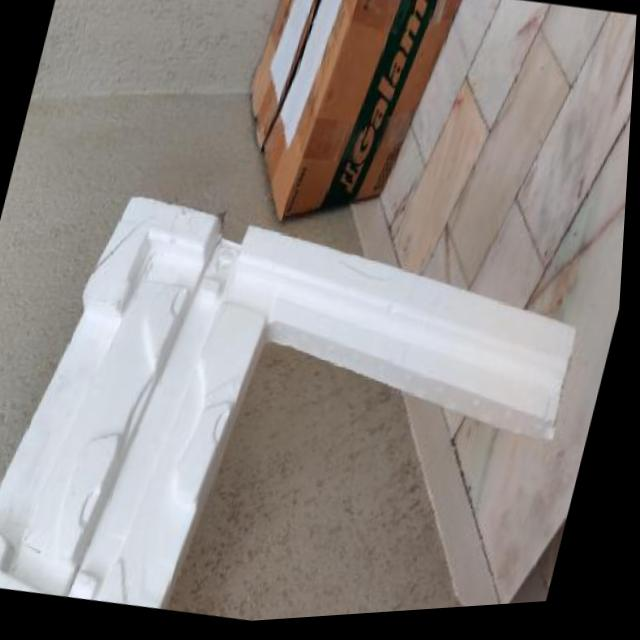cardboard: (214, 0, 470, 250)
foam: (0, 138, 608, 640)
